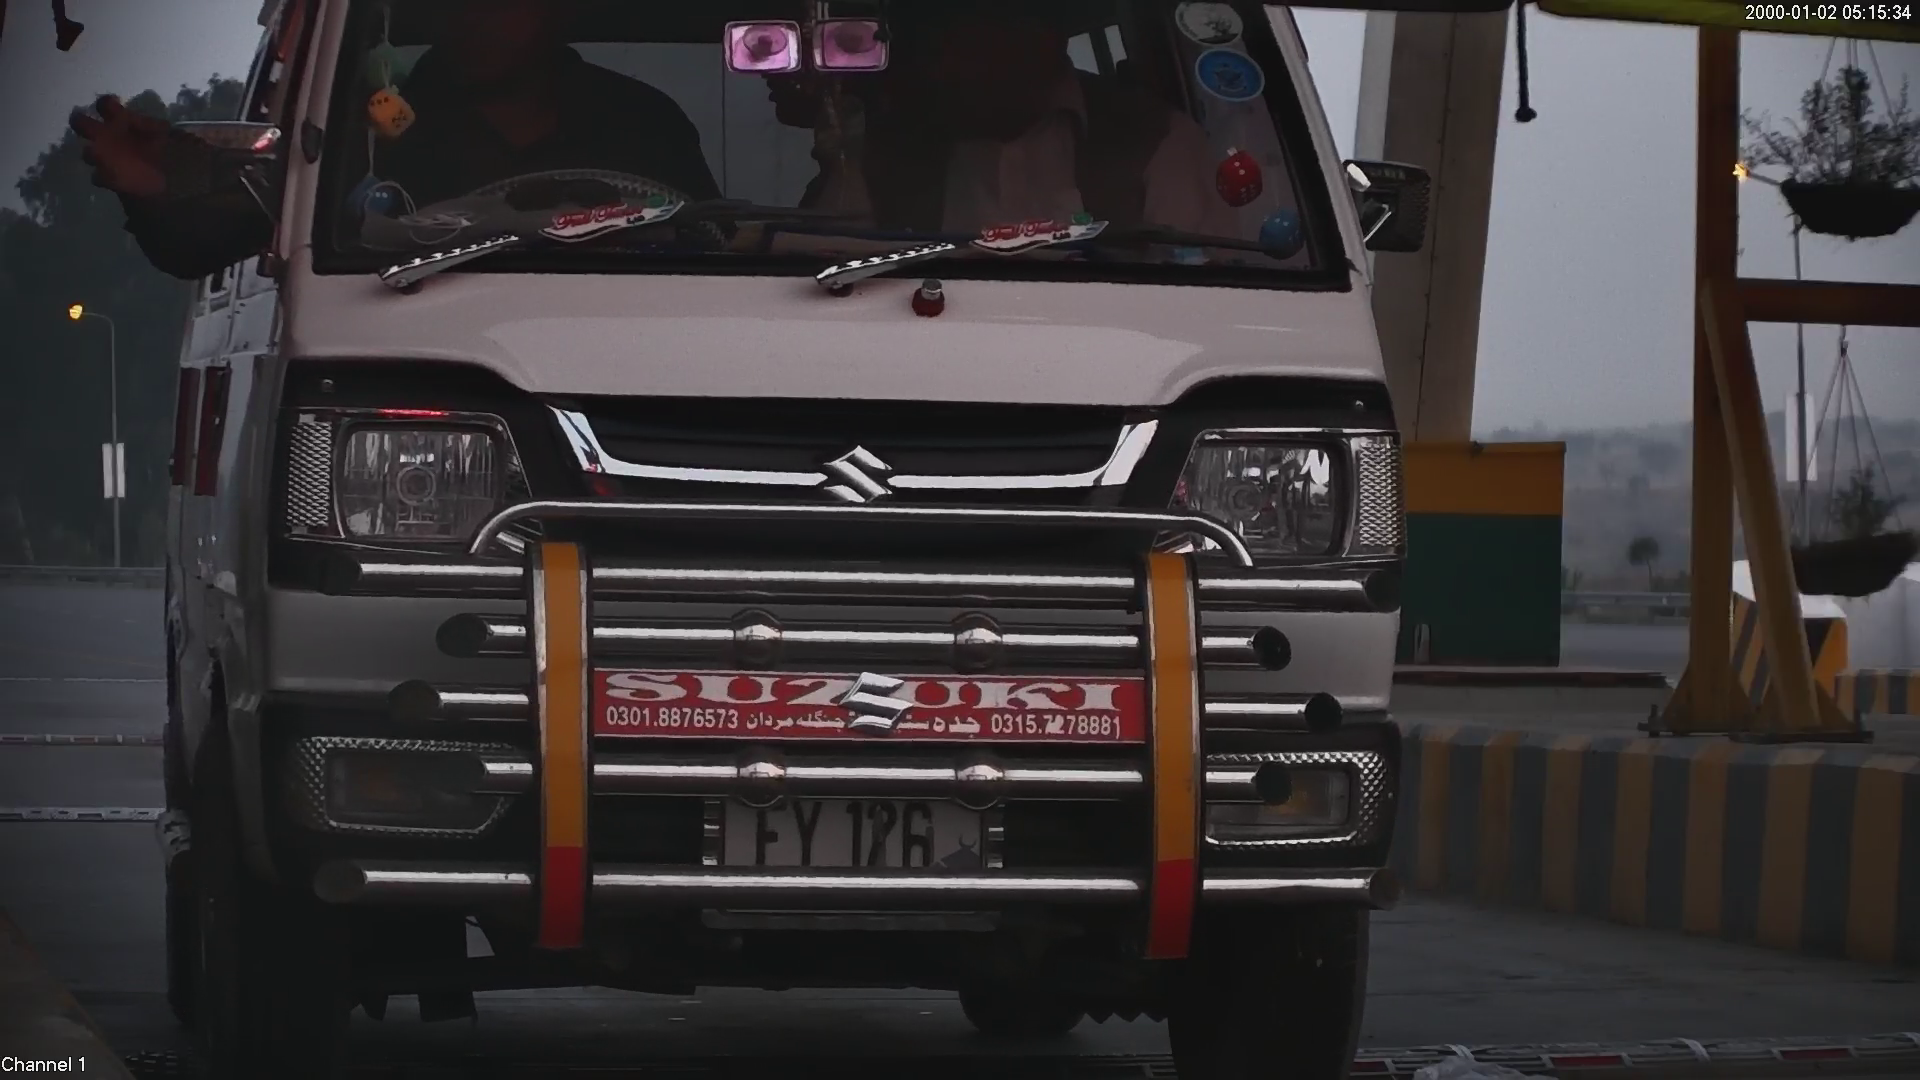Number_Plate: (712, 779, 994, 888)
